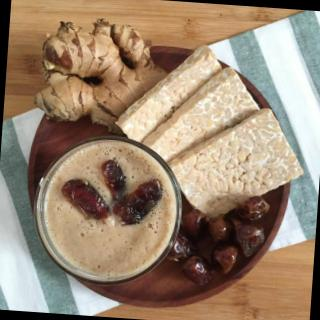Tempe: (105, 35, 318, 232)
